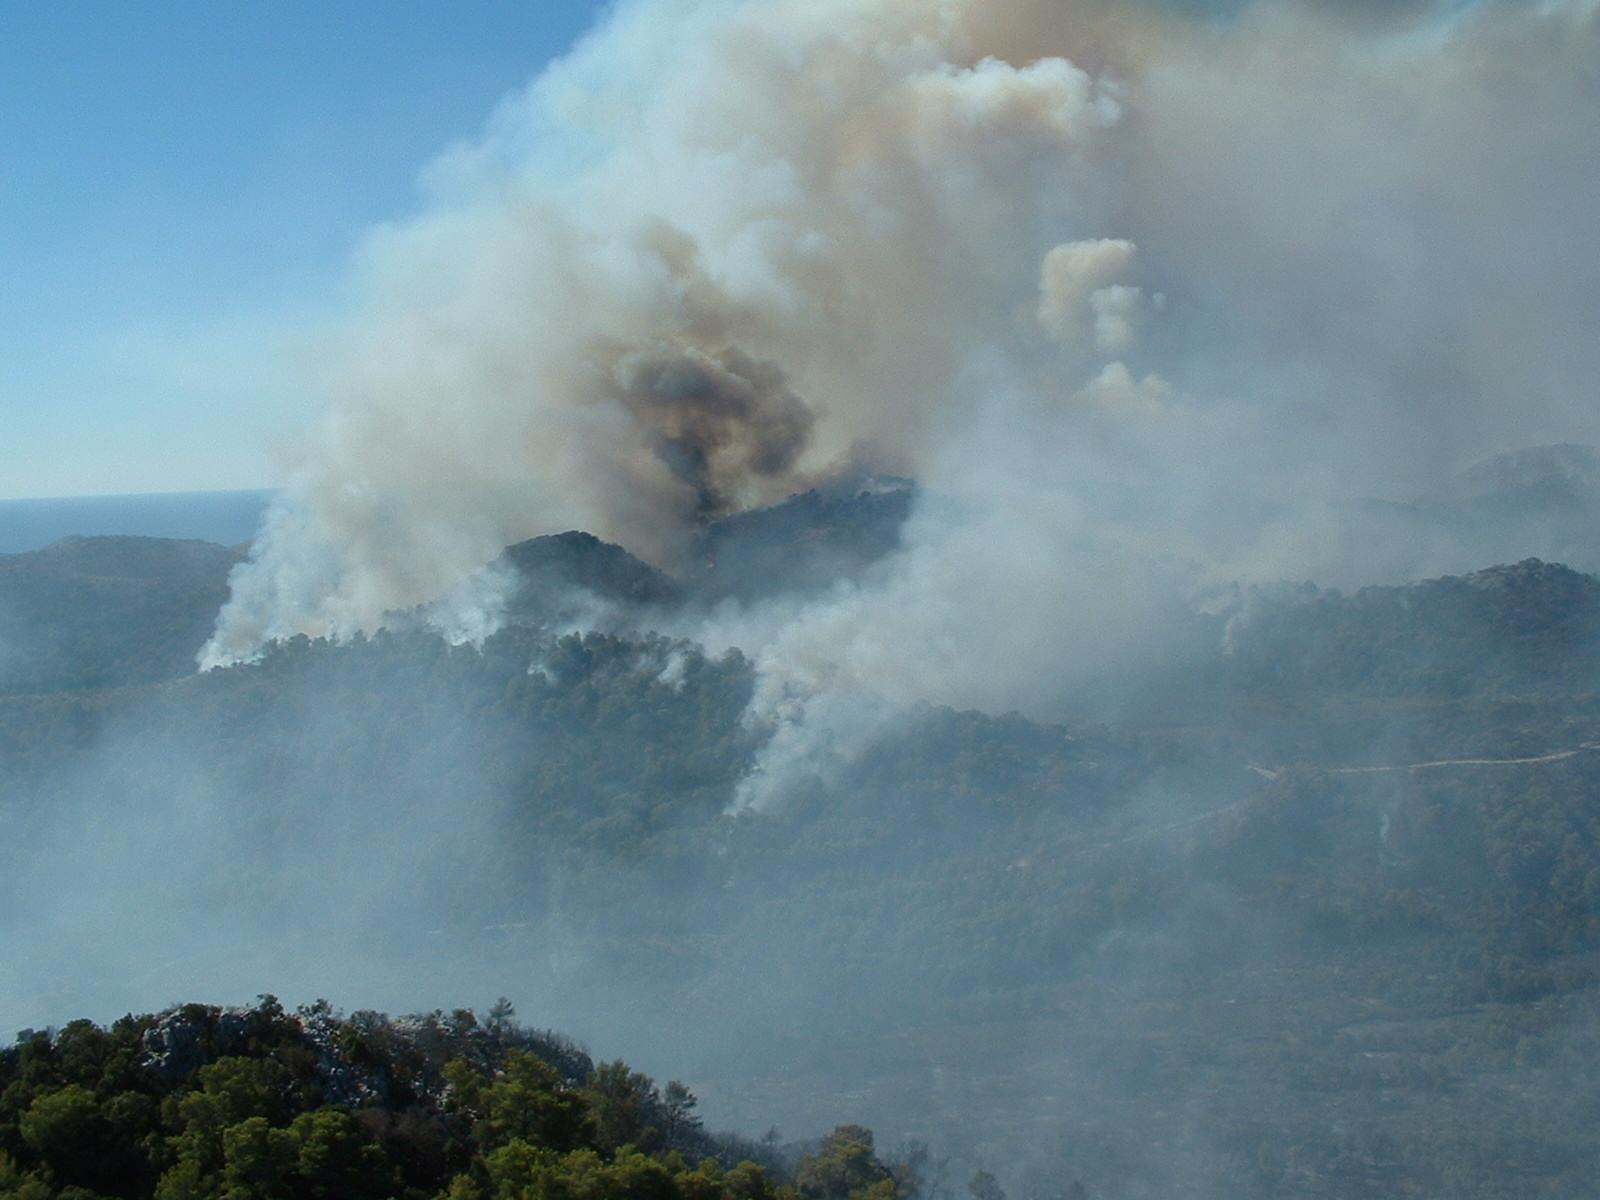Smoke: (711, 6, 1599, 828), (186, 3, 910, 679)
